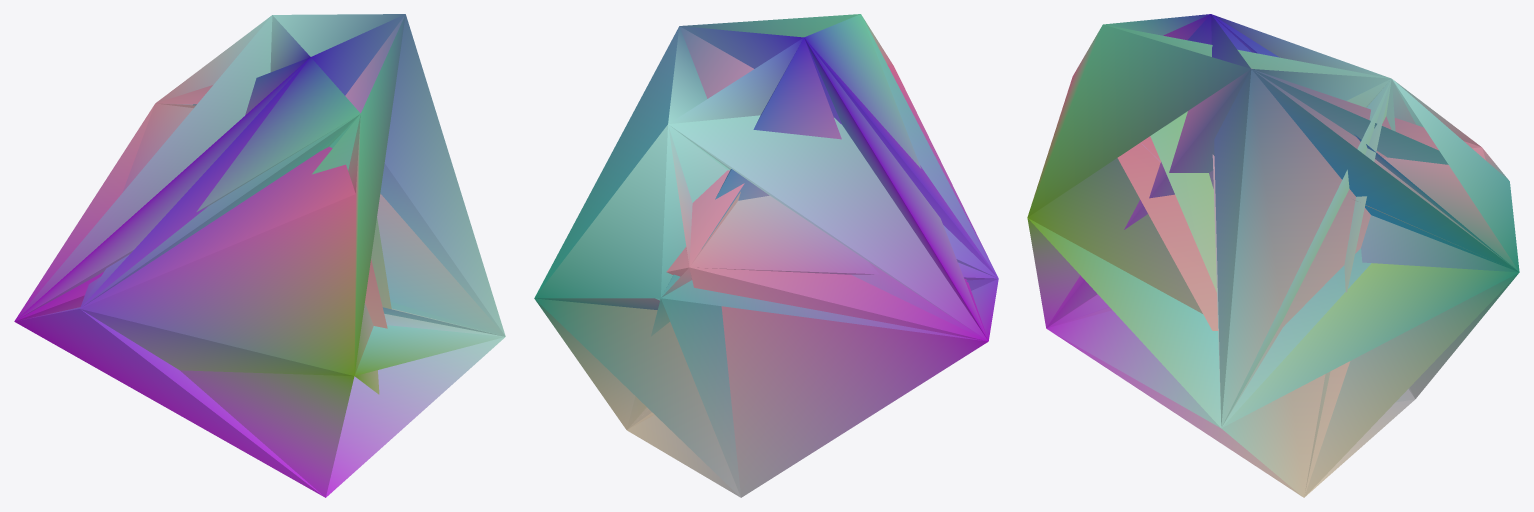
Rendered from untextured.glb.
The picture shows the model from 3 angles, left to right: view 1: azimuth 30°, elevation 25°; view 2: azimuth 150°, elevation 25°; view 3: azimuth 270°, elevation 25°; orthographic projection. The views are drawn at different scales.
Parts seen in each view (by area): view 1: player; view 2: player; view 3: player.
Part boxes in pixels (box(x1,y1,x2,y2)): player: box(14, 14, 505, 497); player: box(534, 14, 998, 497); player: box(1027, 14, 1519, 497).
Size of the model in its own units: 30.96 by 28.35 by 30.46.
